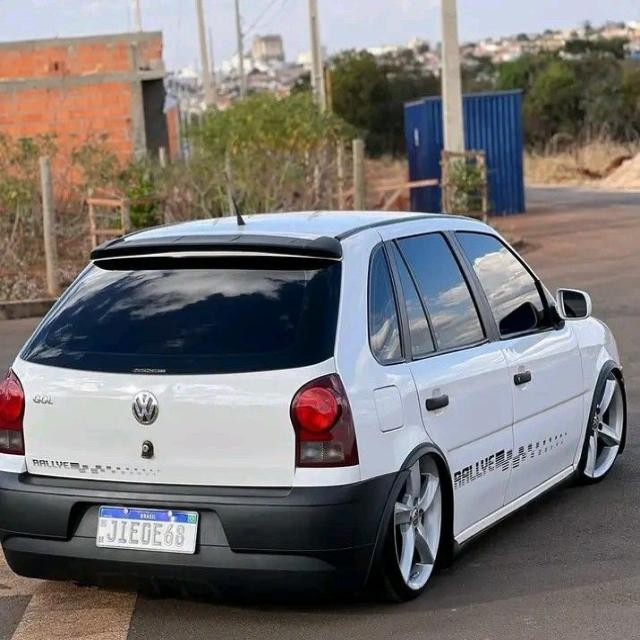Placas: (94, 502, 201, 558)
